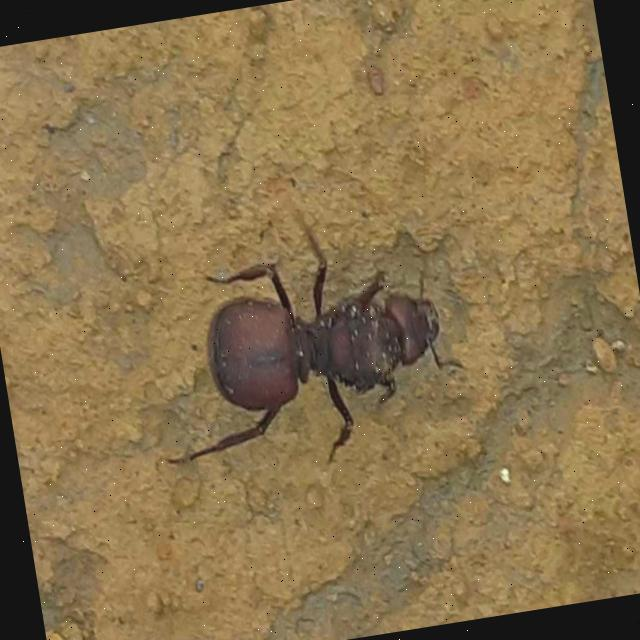Alive-Female-Dealate: (129, 186, 476, 491)
